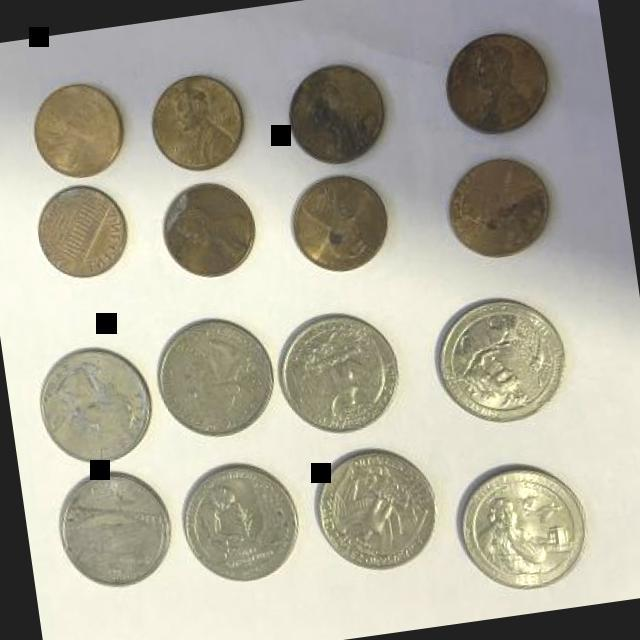Penny: (435, 24, 559, 142), (435, 148, 555, 266), (276, 51, 394, 168), (278, 165, 395, 279), (138, 66, 252, 180), (147, 174, 260, 284), (25, 178, 132, 285), (22, 76, 128, 183)
Quarter: (422, 288, 574, 434), (446, 454, 594, 601), (303, 441, 445, 581), (268, 302, 408, 441), (167, 452, 306, 590), (146, 310, 284, 446), (26, 337, 160, 474), (47, 461, 176, 592)
